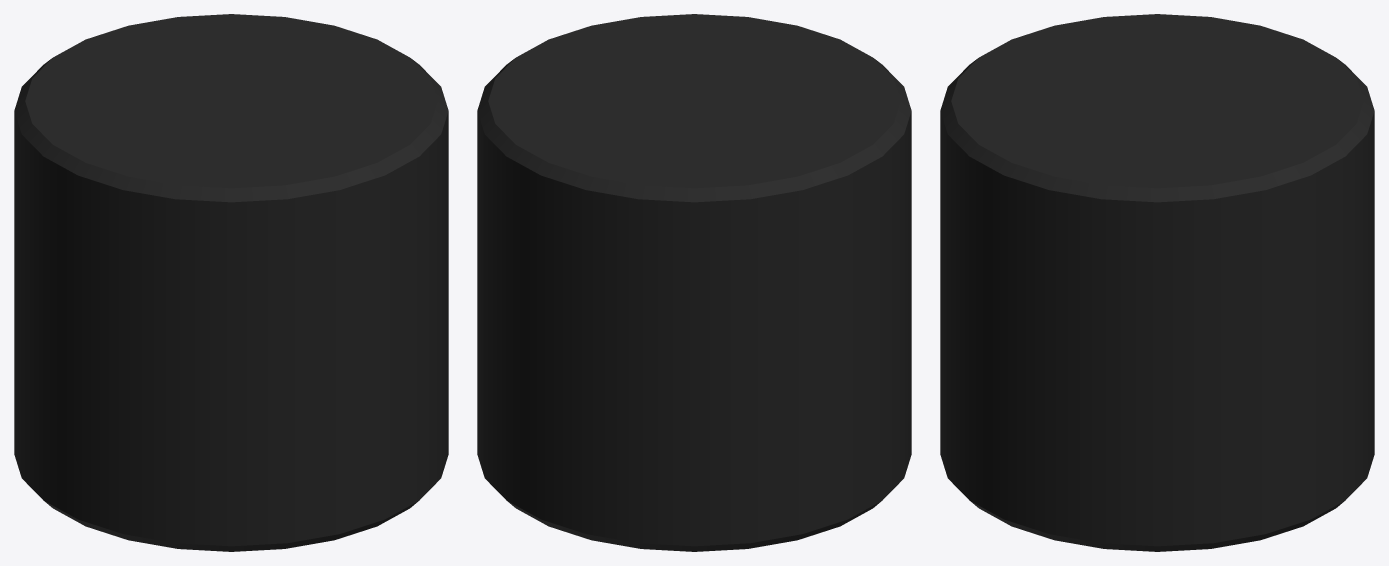
File: CLV_2_LFO_2.obj
3 views of the same model, side by side, from view 1: azimuth 30°, elevation 25°; view 2: azimuth 150°, elevation 25°; view 3: azimuth 270°, elevation 25° (orthographic).
Parts seen in each view (by area): view 1: CLV_2_LFO_2; view 2: CLV_2_LFO_2; view 3: CLV_2_LFO_2.
Boxes of the visible parts, x1,y1,x2,y2 form: CLV_2_LFO_2: (14,14,448,551); CLV_2_LFO_2: (477,14,911,551); CLV_2_LFO_2: (940,14,1374,551).
Bounding box in the file's own units: 1.25 × 1.16 × 1.25.
